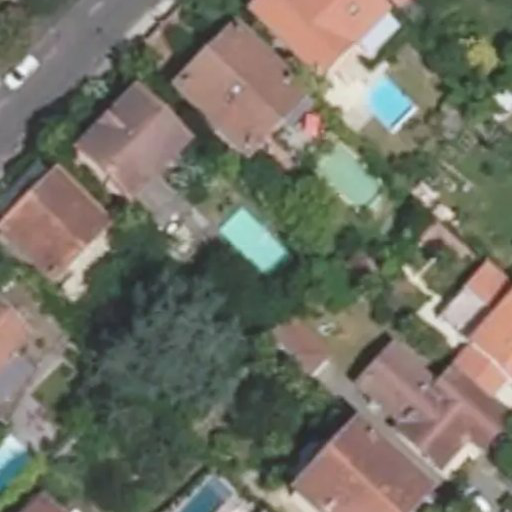pool: (221, 230, 290, 253)
